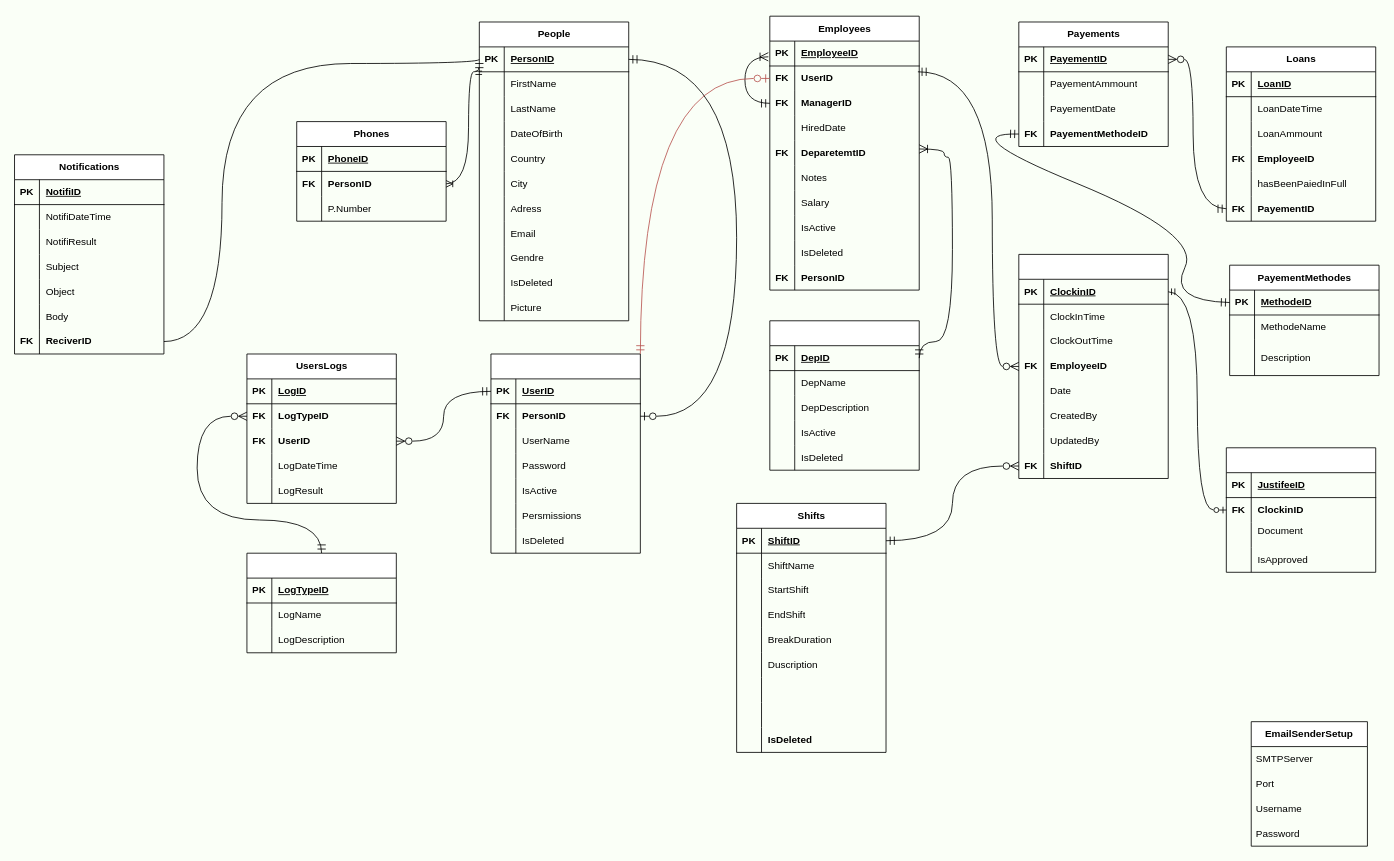
The diagram is 1394 pixels wide and 861 high, and some of its shapes have lost their labels. The shapes that lost their labels are listed below. From the top down, each one's box as (x1, y1, x2, y2) in pixels, then its label:
(1018, 254, 1168, 478): Clock-ins
(769, 320, 919, 470): Departements
(490, 353, 640, 553): Users
(1225, 447, 1376, 572): Justifications
(246, 552, 396, 653): LogTypes
